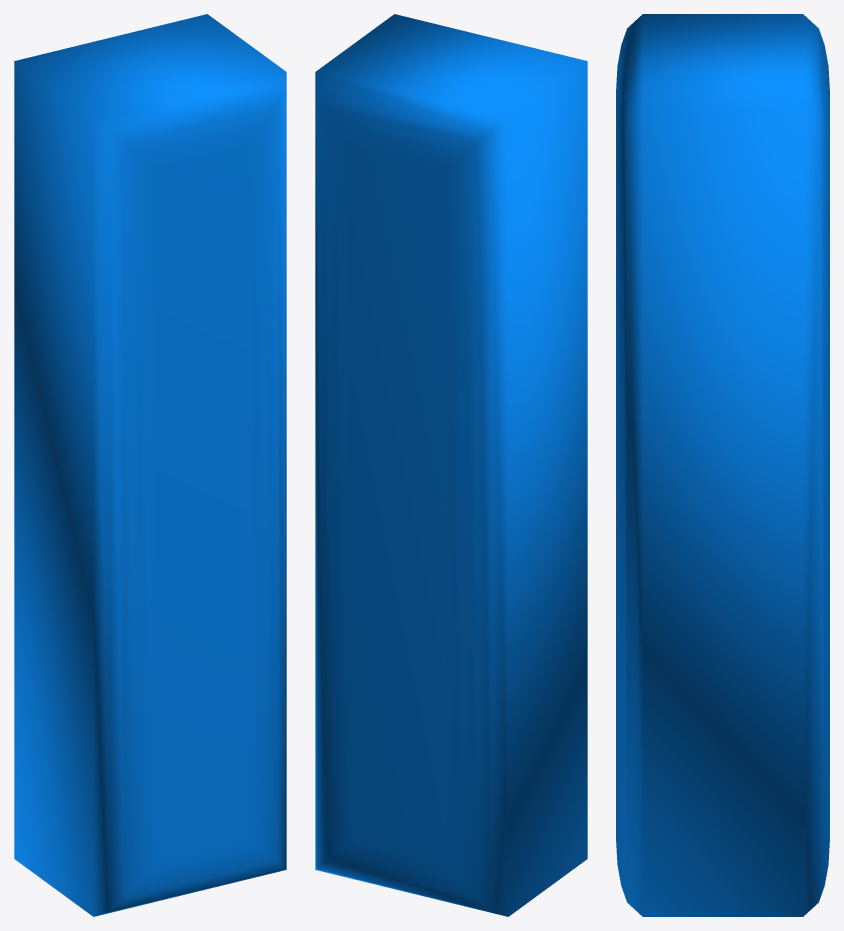
3 renders of one model, left to right at view 1: azimuth 30°, elevation 25°; view 2: azimuth 150°, elevation 25°; view 3: azimuth 270°, elevation 25°, orthographic.
Visible parts, largest first — view 1: 1_Numbers002_0; view 2: 1_Numbers002_0; view 3: 1_Numbers002_0.
Part boxes in pixels (x1,y1,x2,y2): 1_Numbers002_0: (14,14,286,916); 1_Numbers002_0: (315,14,587,916); 1_Numbers002_0: (616,14,829,916).
Bounding box in the file's own units: 0.099 × 0.391 × 0.0938.
